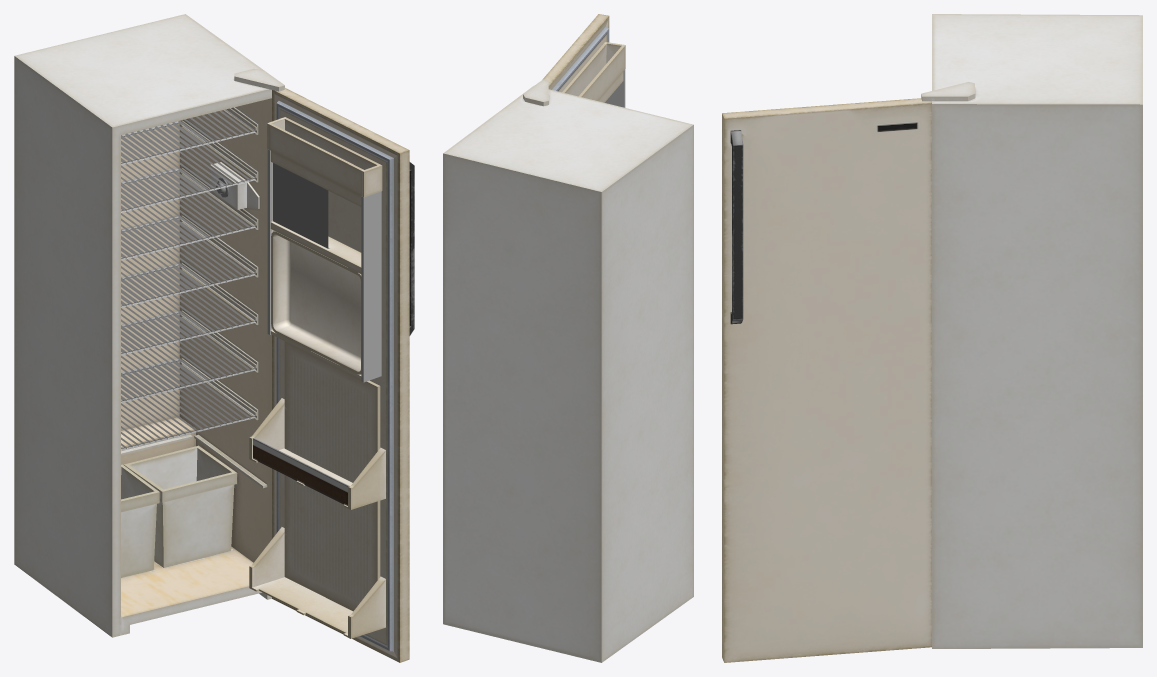
The model's file is fridge.glb.
3 views of the same model, side by side, from view 1: azimuth 30°, elevation 25°; view 2: azimuth 150°, elevation 25°; view 3: azimuth 270°, elevation 25° (orthographic). The views are drawn at different scales.
Visible parts, largest first — view 1: Fridge_low, Door_low; view 2: Fridge_low, Door_low; view 3: Fridge_low, Door_low.
Boxes of the visible parts, box(x1,y1,x2,y2) form: Fridge_low: box(14, 14, 284, 637); Door_low: box(249, 88, 414, 662); Fridge_low: box(443, 79, 693, 662); Door_low: box(542, 14, 625, 107); Fridge_low: box(921, 14, 1142, 648); Door_low: box(722, 98, 931, 662).
Bounding box in the file's own units: 0.6512 × 1.53 × 1.06.
2 materials, 2 textured.
